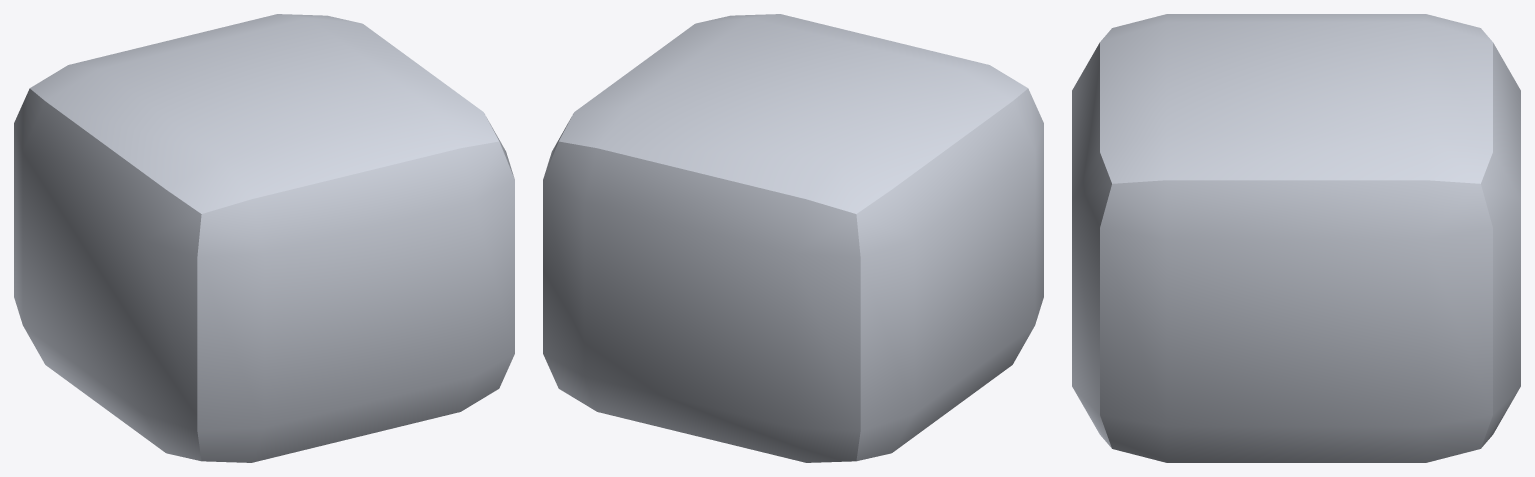
File: Rock_B.fbx
3 views of the same model, side by side, from view 1: azimuth 30°, elevation 25°; view 2: azimuth 150°, elevation 25°; view 3: azimuth 270°, elevation 25° (orthographic). The views are drawn at different scales.
Visible parts, largest first — view 1: Rock_B; view 2: Rock_B; view 3: Rock_B.
Boxes of the visible parts, box(x1,y1,x2,y2) form: Rock_B: box(14, 14, 514, 462); Rock_B: box(543, 14, 1043, 462); Rock_B: box(1072, 14, 1520, 462).
Size of the model in its own units: 89.52 by 71.02 by 89.52.
